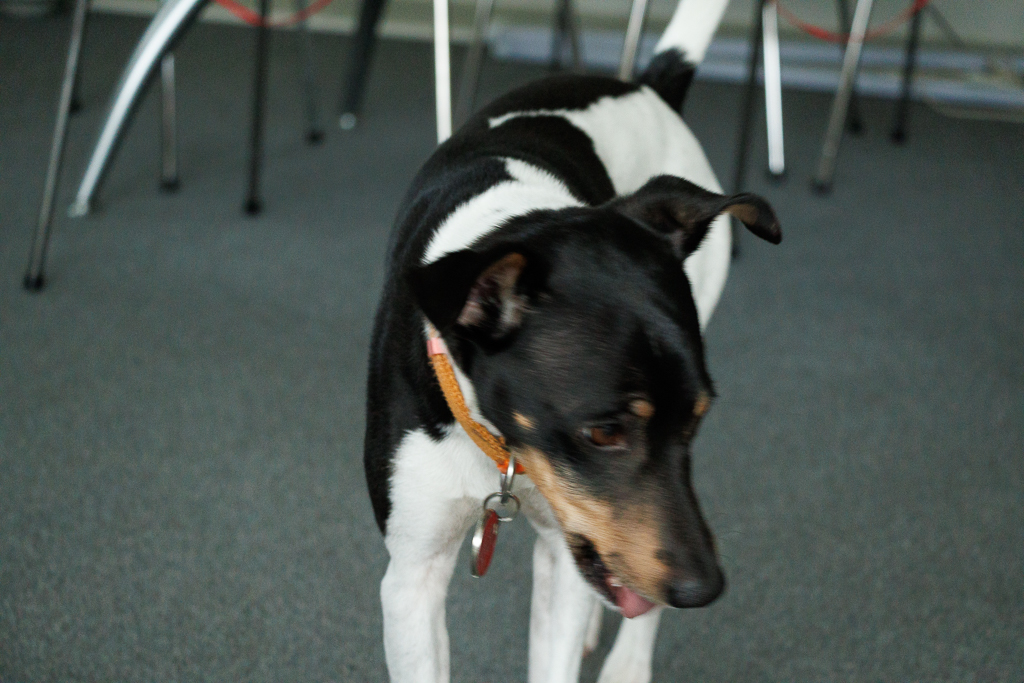Dog: (350, 0, 799, 683)
